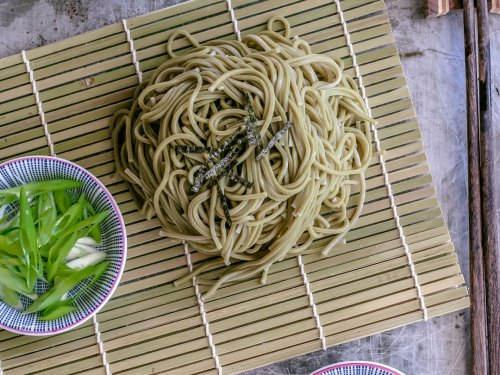Soba: (121, 19, 370, 294)
